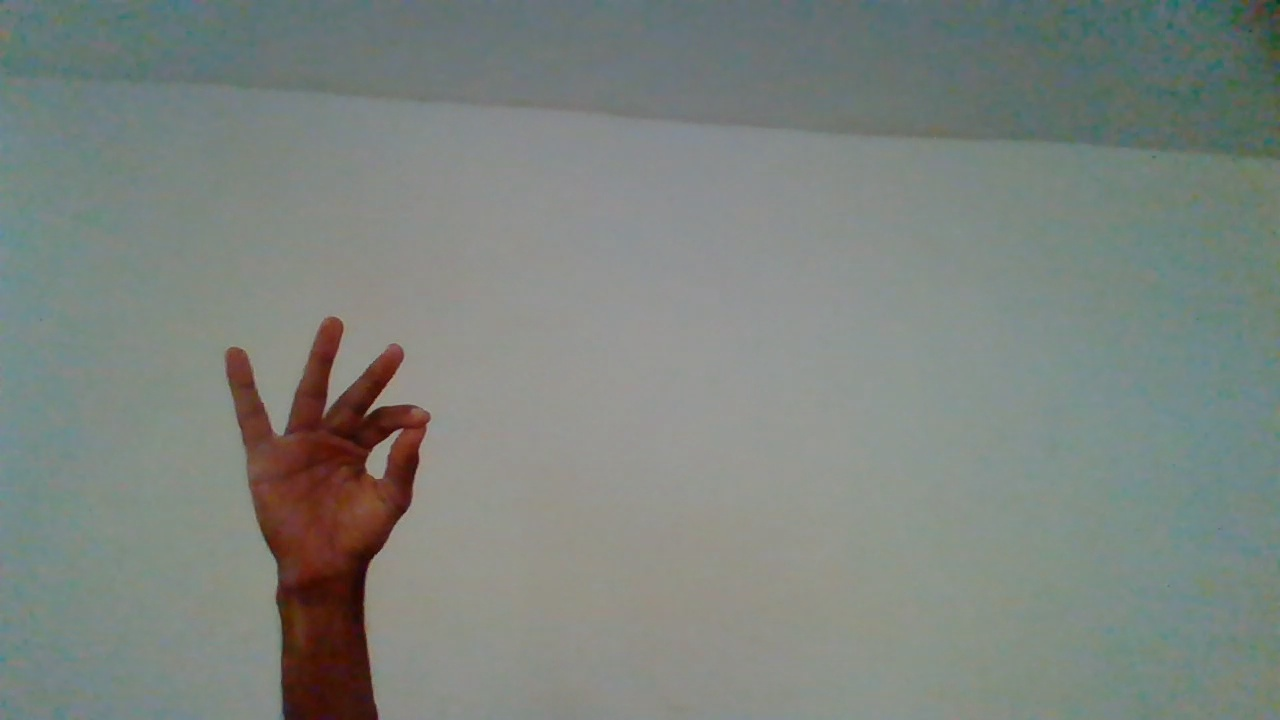le: (209, 316, 432, 696)
